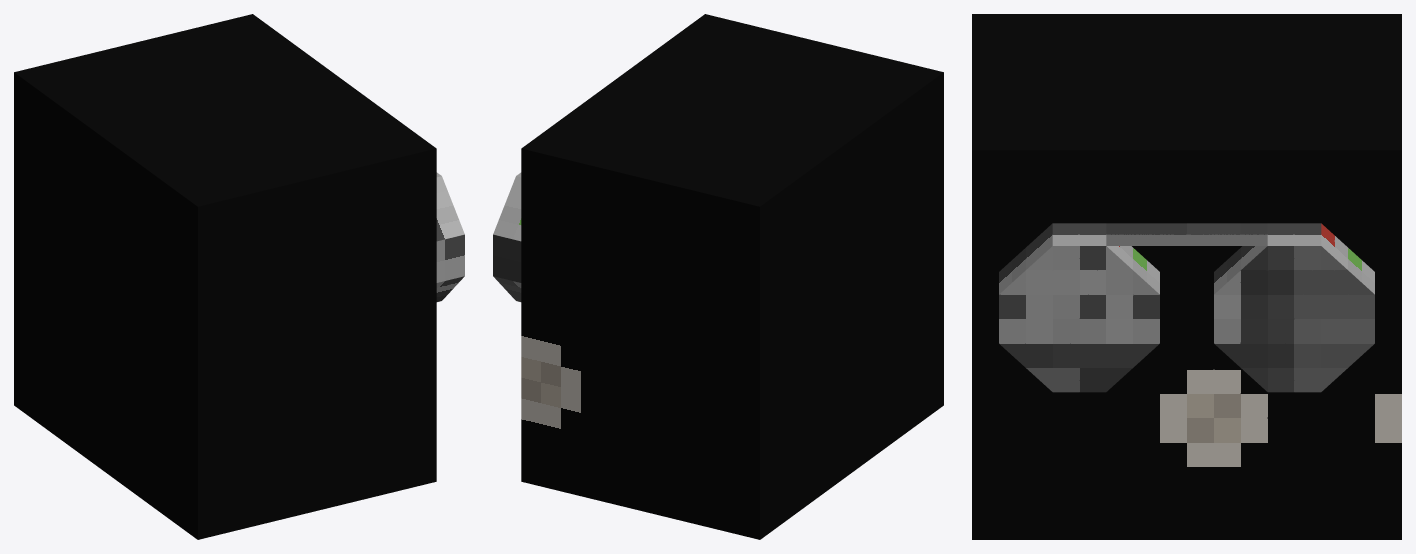
Rendered from taperecorder.obj.
3 renders of one model, left to right at view 1: azimuth 30°, elevation 25°; view 2: azimuth 150°, elevation 25°; view 3: azimuth 270°, elevation 25°, orthographic. The views are drawn at different scales.
Visible parts, largest first — view 1: tape_recorder; view 2: tape_recorder; view 3: tape_recorder.
Boxes of the visible parts, x1,y1,x2,y2 form: tape_recorder: [14, 14, 464, 539]; tape_recorder: [493, 14, 943, 539]; tape_recorder: [972, 14, 1401, 539].
Size of the model in its own units: 0.875 by 1 by 1.
